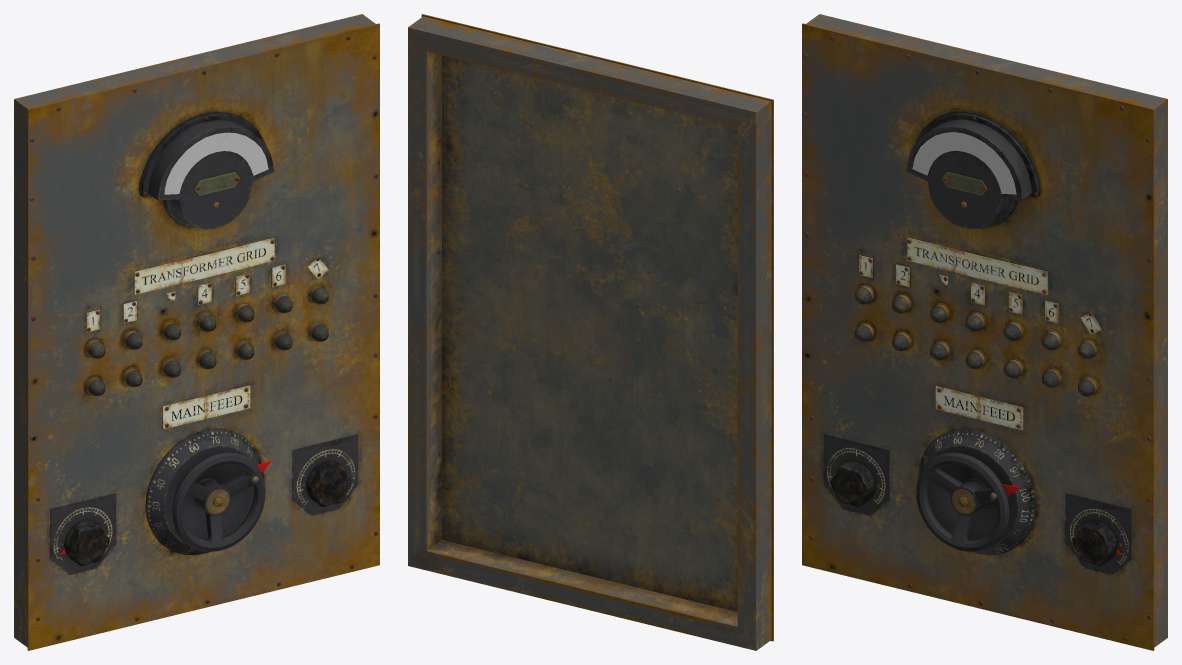
Rendered from Panel_with_Levers_and_Gauges_02_v1_Max_Vray_NC.fbx.
The picture shows the model from 3 angles, left to right: view 1: azimuth 30°, elevation 25°; view 2: azimuth 150°, elevation 25°; view 3: azimuth 330°, elevation 25°; orthographic projection.
Visible parts, largest first — view 1: Big_Metal_Plane_root, Little_Metal_Planes_root, Metal_Dark_Part_Top_root, Big_Metal_Ring_02_root, Big_Metal_Ring_root, Light_Bulbs_root, Little_Rings_Left_Right_root, Glass_root, Metal_Ring_Bulbs_root, Screws_root; view 2: Big_Metal_Plane_root; view 3: Big_Metal_Plane_root, Little_Metal_Planes_root, Metal_Dark_Part_Top_root, Big_Metal_Ring_02_root, Big_Metal_Ring_root, Light_Bulbs_root, Little_Rings_Left_Right_root, Glass_root, Metal_Ring_Bulbs_root, Screws_root.
Boxes of the visible parts, x1,y1,x2,y2 form: Big_Metal_Plane_root: [14, 14, 379, 650]; Little_Metal_Planes_root: [50, 171, 358, 574]; Metal_Dark_Part_Top_root: [139, 112, 274, 229]; Big_Metal_Ring_02_root: [145, 428, 263, 555]; Big_Metal_Ring_root: [172, 452, 265, 551]; Light_Bulbs_root: [88, 287, 328, 396]; Little_Rings_Left_Right_root: [64, 461, 351, 565]; Glass_root: [164, 132, 268, 194]; Metal_Ring_Bulbs_root: [84, 284, 324, 394]; Screws_root: [29, 35, 378, 621]; Big_Metal_Plane_root: [408, 14, 773, 650]; Big_Metal_Plane_root: [802, 14, 1167, 650]; Little_Metal_Planes_root: [823, 171, 1131, 574]; Metal_Dark_Part_Top_root: [906, 111, 1041, 229]; Big_Metal_Ring_02_root: [918, 428, 1036, 555]; Big_Metal_Ring_root: [916, 452, 1009, 551]; Light_Bulbs_root: [854, 287, 1094, 396]; Little_Rings_Left_Right_root: [830, 461, 1117, 565]; Glass_root: [912, 132, 1016, 194]; Metal_Ring_Bulbs_root: [858, 284, 1098, 395]; Screws_root: [803, 35, 1151, 640].
Bounding box in the file's own units: 131 × 193 × 22.43.
2 materials, 2 textured.
